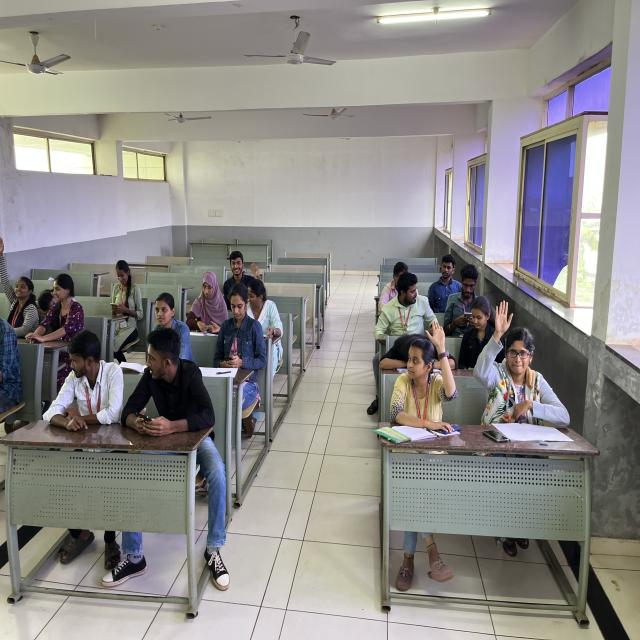Hand Rising: (477, 295, 566, 397), (394, 321, 464, 432), (0, 234, 41, 340)
Sleeping: (375, 318, 434, 371), (35, 280, 76, 316)
Using Phone: (126, 321, 219, 455), (202, 283, 266, 371), (107, 255, 146, 352), (443, 265, 482, 331)
